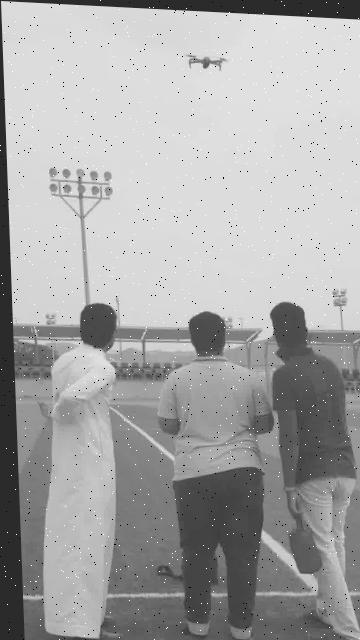drone: (180, 44, 231, 72)
